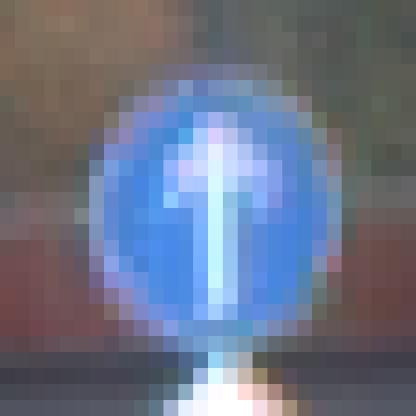AheadOnly: (90, 81, 343, 337)
